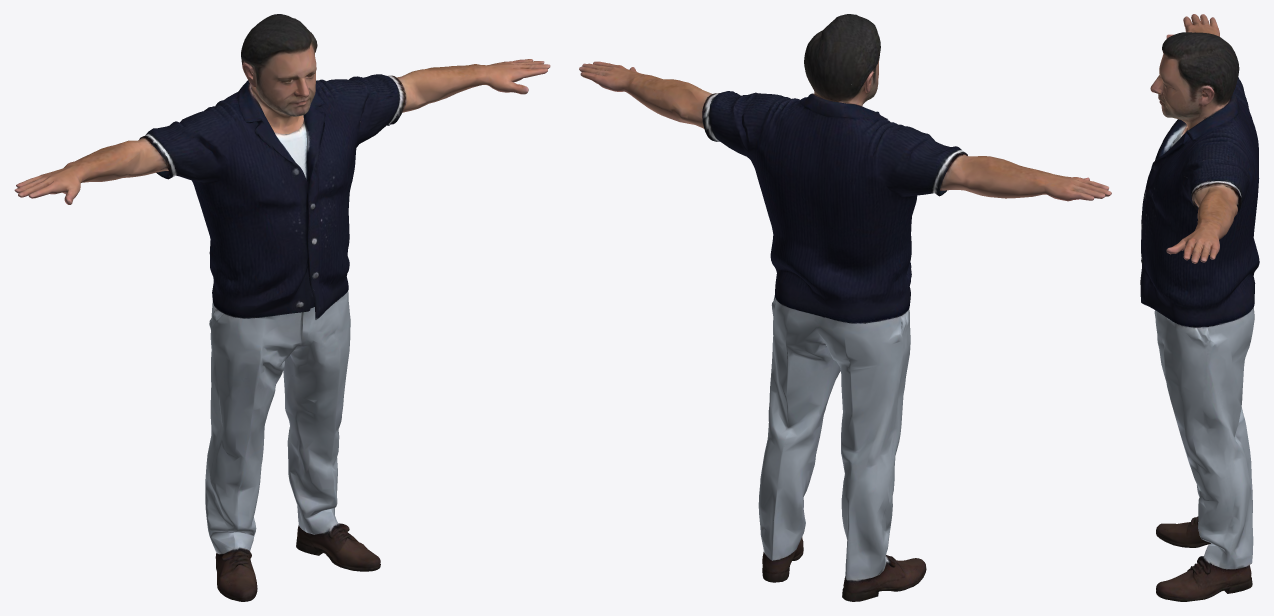
File: martin.glb
3 views of the same model, side by side, from view 1: azimuth 30°, elevation 25°; view 2: azimuth 150°, elevation 25°; view 3: azimuth 270°, elevation 25° (orthographic). The views are drawn at different scales.
Visible parts, largest first — view 1: model; view 2: model; view 3: model.
Boxes of the visible parts, box(x1,y1,x2,y2) form: model: box(14, 14, 550, 601); model: box(579, 14, 1111, 601); model: box(1140, 14, 1259, 601).
Size of the model in its own units: 0.9785 by 0.9793 by 0.199.
1 material, 1 textured.
